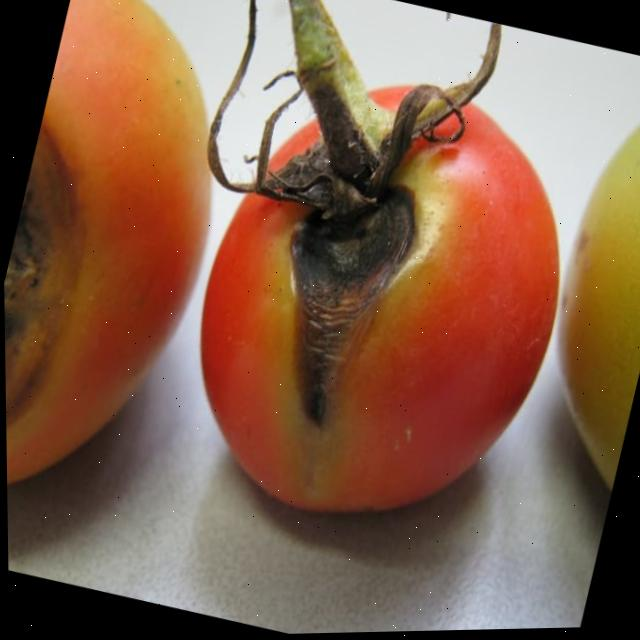damaged: (130, 18, 635, 600)
